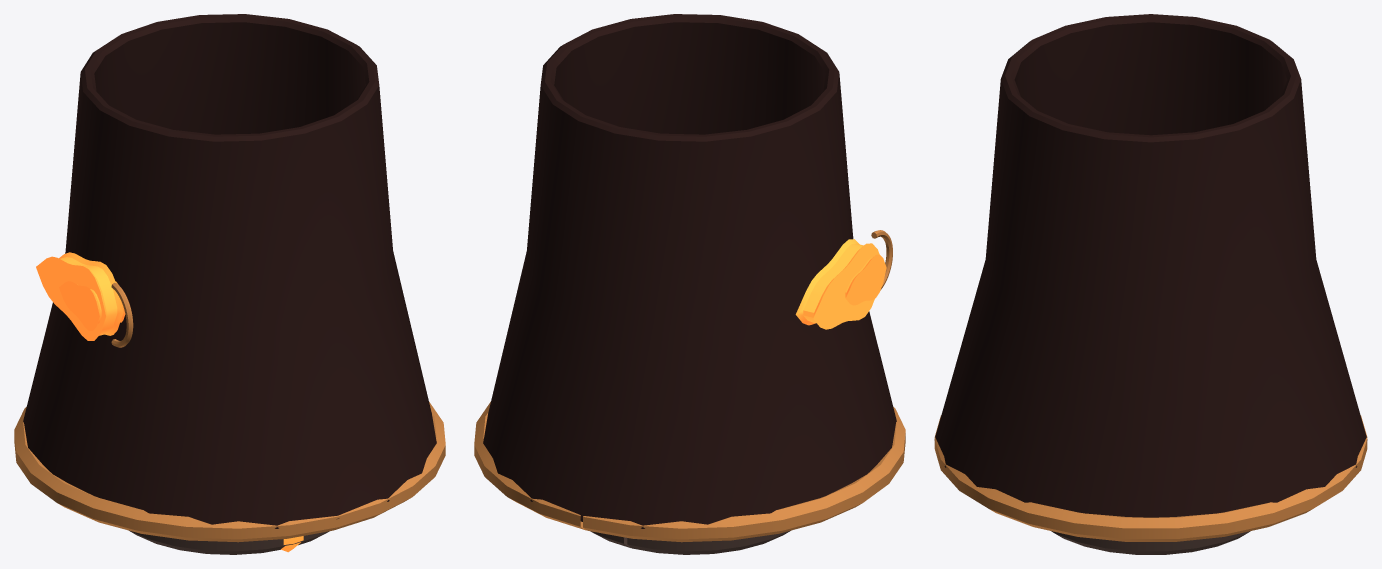
File: asc_ashborn_archmage_gloves_R.glb
3 views of the same model, side by side, from view 1: azimuth 30°, elevation 25°; view 2: azimuth 150°, elevation 25°; view 3: azimuth 270°, elevation 25° (orthographic).
Visible parts, largest first — view 1: asc_ashborn_archmage_gloves; view 2: asc_ashborn_archmage_gloves; view 3: asc_ashborn_archmage_gloves.
Boxes of the visible parts, box(x1,y1,x2,y2) form: asc_ashborn_archmage_gloves: box(14, 14, 445, 554); asc_ashborn_archmage_gloves: box(474, 14, 905, 554); asc_ashborn_archmage_gloves: box(934, 14, 1367, 554).
Bounding box in the file's own units: 0.221 × 0.2464 × 0.2227.
